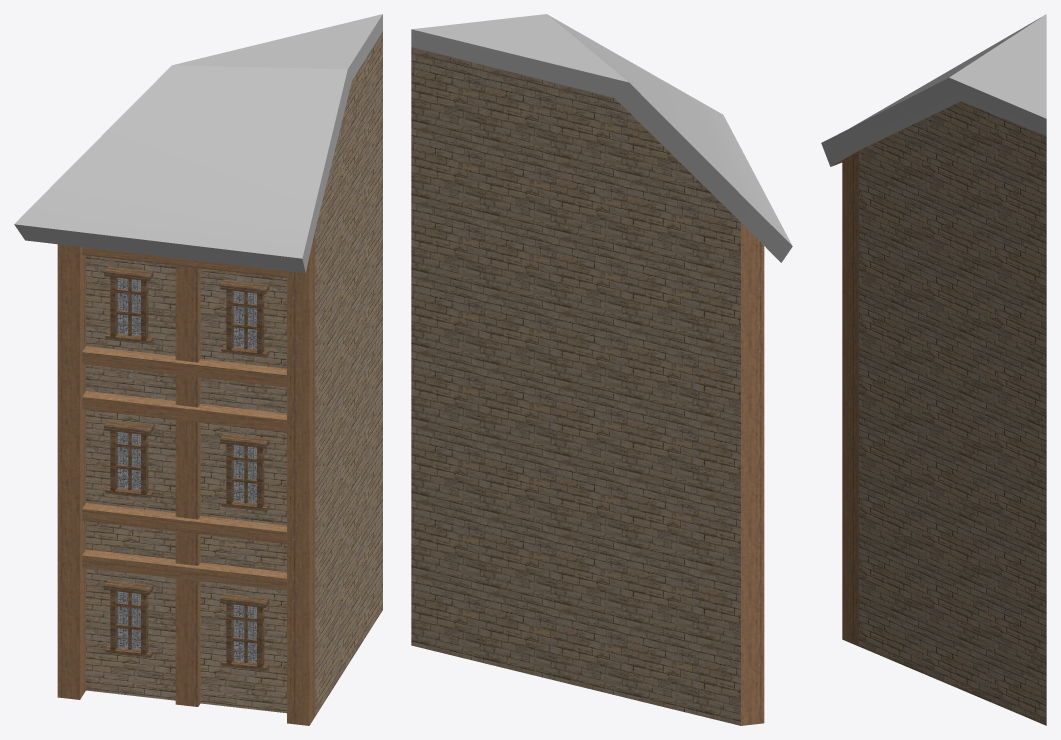
The model's file is townhouse_tilted1_combined.fbx.
3 renders of one model, left to right at view 1: azimuth 30°, elevation 25°; view 2: azimuth 150°, elevation 25°; view 3: azimuth 270°, elevation 25°, orthographic. The views are drawn at different scales.
Visible parts, largest first — view 1: pCube34; view 2: pCube34; view 3: pCube34.
Boxes of the visible parts, bbox=[...] form: pCube34: bbox=[14, 14, 382, 725]; pCube34: bbox=[411, 14, 792, 725]; pCube34: bbox=[821, 14, 1046, 725].
Bounding box in the file's own units: 49.04 × 75.7 × 25.5.
